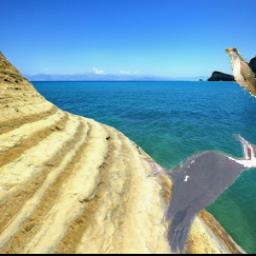Cuckoo: (225, 46, 256, 129)
Woodpecker: (142, 134, 256, 254)
